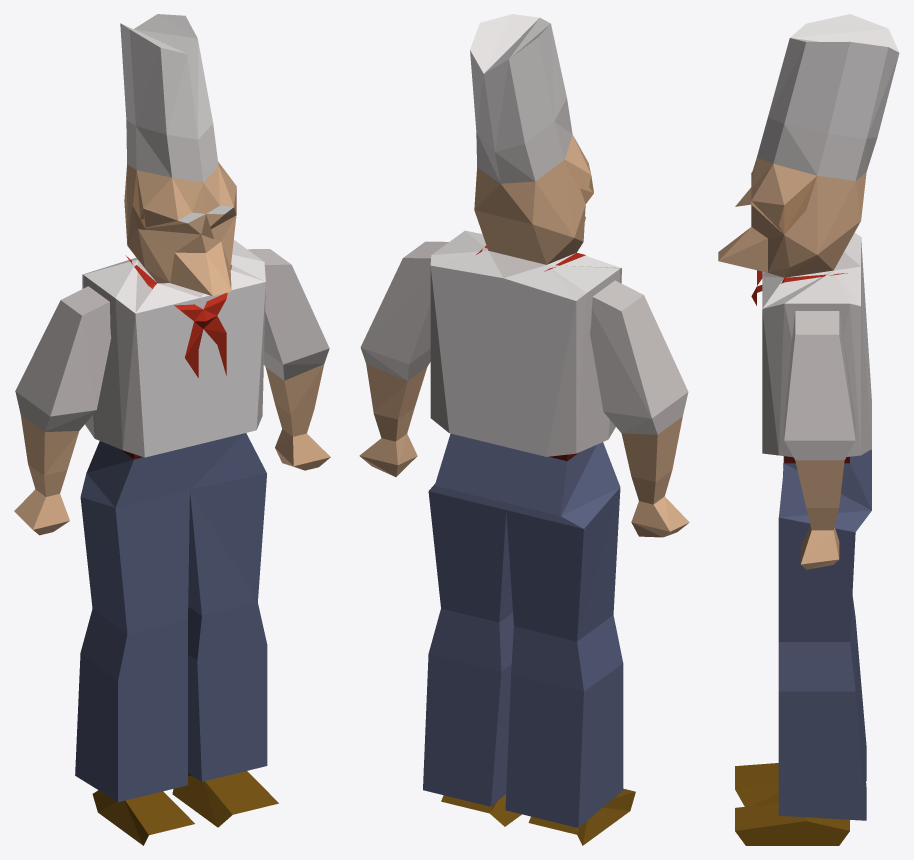
File: gnome-restaurant.gltf
3 renders of one model, left to right at view 1: azimuth 30°, elevation 25°; view 2: azimuth 150°, elevation 25°; view 3: azimuth 270°, elevation 25°, orthographic. The views are drawn at different scales.
Size of the model in its own units: 64 by 158 by 33.
Materials: 1 (1 with a texture image).
